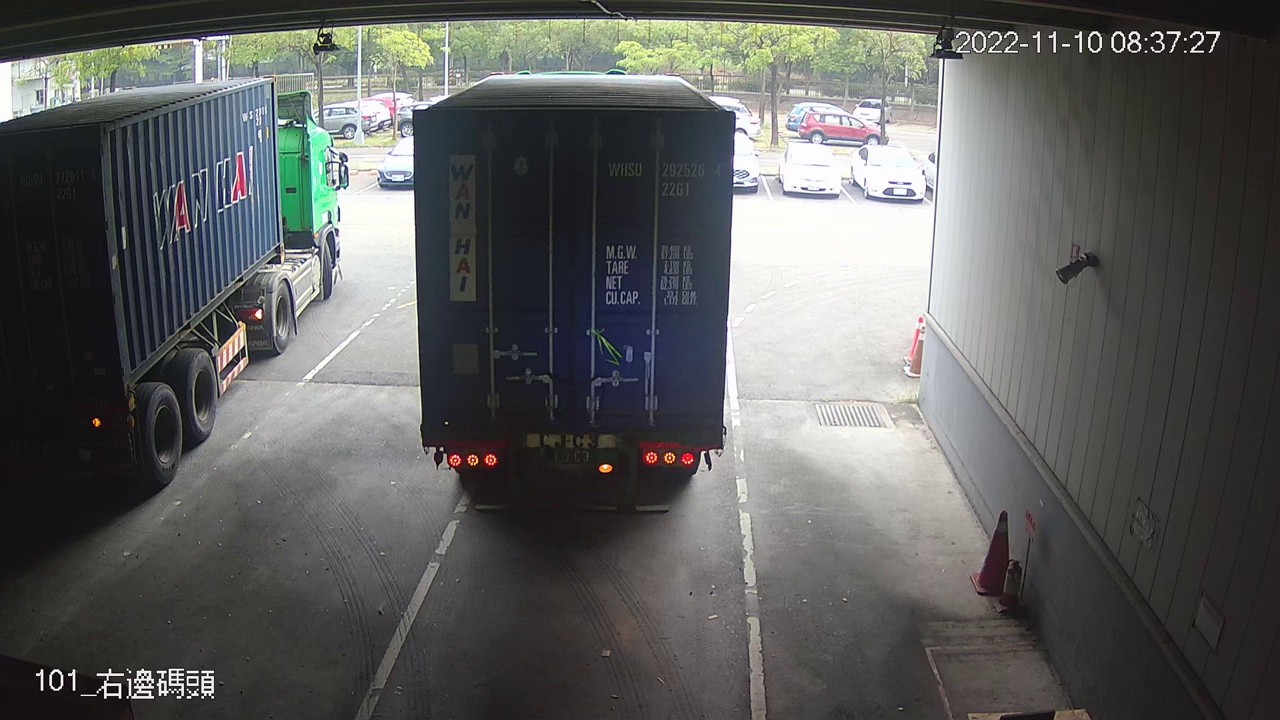container: (601, 155, 725, 203)
